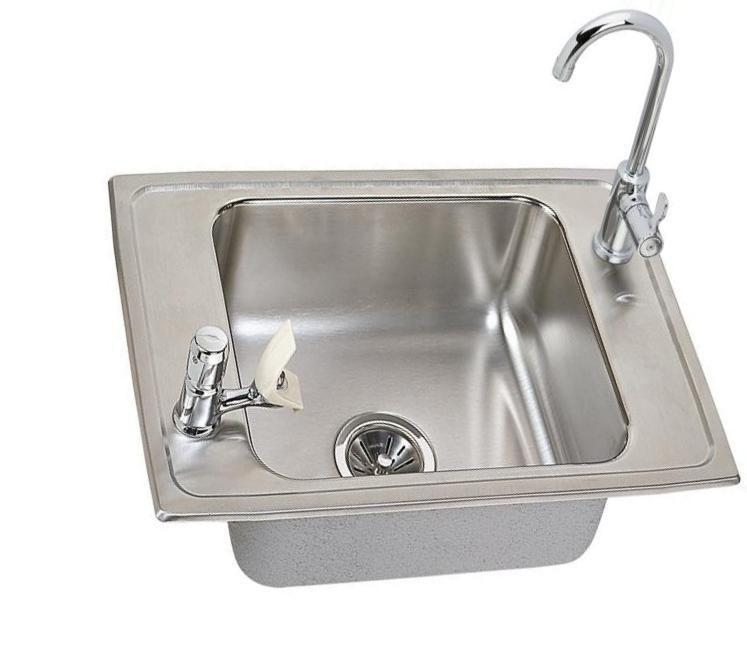Lavaplatos: (75, 8, 737, 544)
